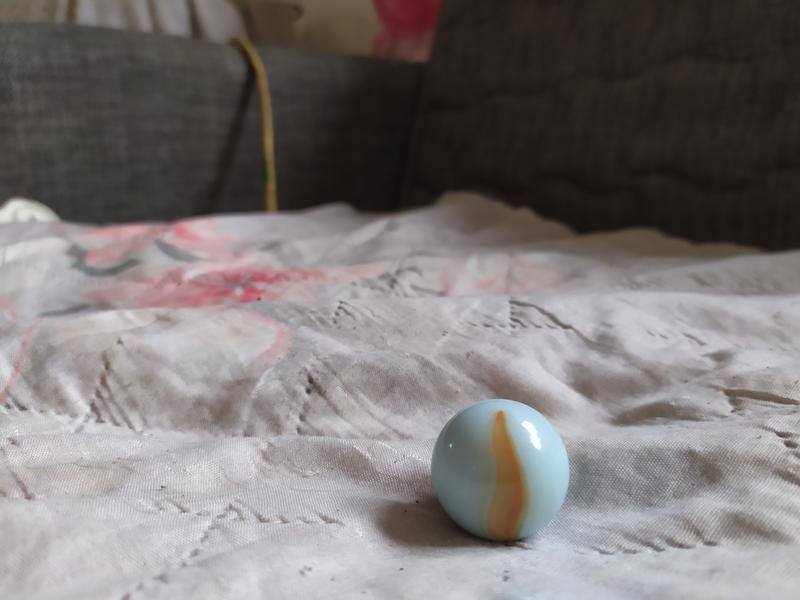Warning: (427, 395, 575, 546)
